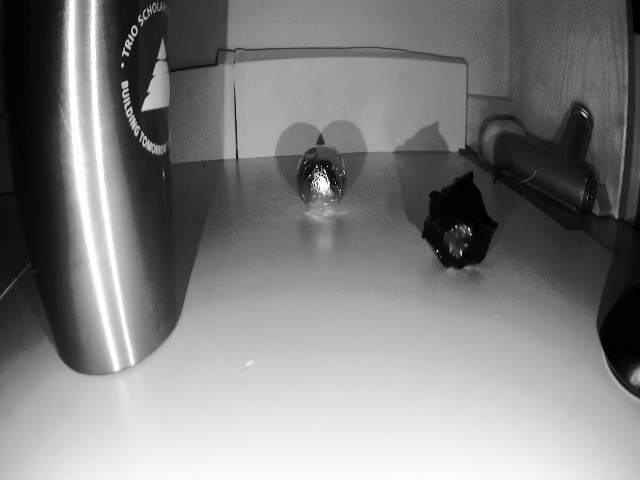black: (295, 144, 347, 211)
silver: (422, 171, 497, 260)
